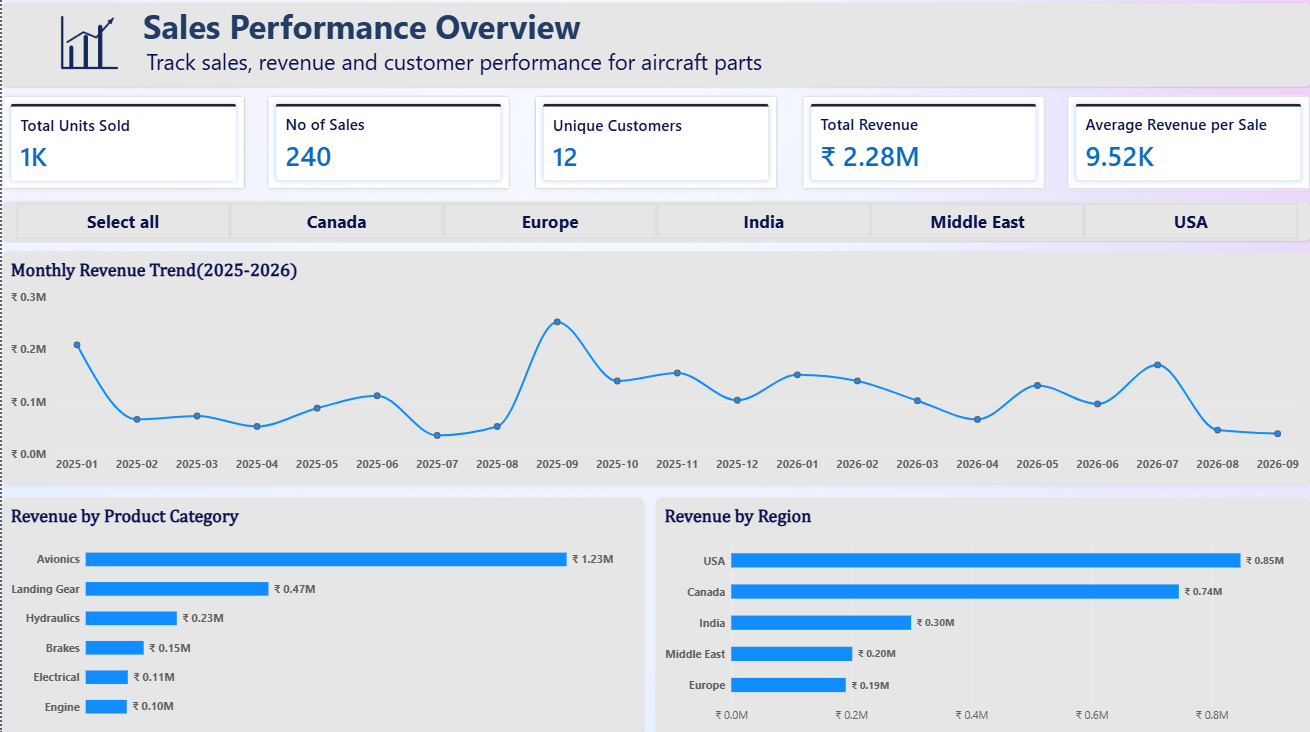

The page's visual inventory and layout, read from the dashboard file:
{"tool":"powerbi","page":{"name":"Executive Overview","canvas":[1920,1080],"ordinal":0},"visuals":[{"type":"cardVisual","fields":{"Data":["SalesTable.Total Revenue"]},"box":[1174.7,141.3,357,139.5],"z":0},{"type":"cardVisual","fields":{"Data":["SalesTable.Total Units Sold"]},"box":[0,141.3,357.6,139.5],"z":1000},{"type":"cardVisual","fields":{"Data":["SalesTable.No of sales"]},"box":[388,141.3,357,139],"z":2000},{"type":"cardVisual","fields":{"Data":["SalesTable.Unique Customers"]},"box":[781.4,141.3,357,139],"z":3000},{"type":"clusteredBarChart","title":"Revenue by Product Category","fields":{"Category":["ProductsTable.Category"],"Y":["SalesTable.Total Revenue"]},"box":[0,731.3,942,348.7],"z":4000},{"type":"slicer","title":"Filter by","fields":{"Values":["SalesTable.Region"]},"box":[0,296.8,1920.4,57.2],"z":5000},{"type":"lineChart","title":"Monthly Revenue Trend(2025-2026)","fields":{"Category":["DateTable.Year Month"],"Y":["SalesTable.Total Revenue"]},"box":[0,370.1,1920.4,341.5],"z":6000},{"type":"clusteredBarChart","title":"Revenue by Region","fields":{"Category":["SalesTable.Region"],"Y":["SalesTable.Total Revenue"]},"box":[960.2,731.3,960.2,348.7],"z":7000},{"type":"textbox","box":[0,5.4,1920.4,123.4],"z":8000},{"type":"cardVisual","fields":{"Data":["SalesTable.Average Revenue per Sale"]},"box":[1562.7,141.3,357,139.5],"z":9000},{"type":"image","box":[0,0,252.1,128.7],"z":9001}]}

Visuals, with their boxes in screenshot pixels (x1, y1, x2, y2), scaled from the page's 1920x1080 canvas onto the 1310x732 screenshot:
cardVisual - SalesTable.Total Revenue: BBox(801, 96, 1045, 190)
cardVisual - SalesTable.Total Units Sold: BBox(0, 96, 244, 190)
cardVisual - SalesTable.No of sales: BBox(265, 96, 508, 190)
cardVisual - SalesTable.Unique Customers: BBox(533, 96, 777, 190)
"Revenue by Product Category" clusteredBarChart: BBox(0, 496, 643, 731)
"Filter by" slicer: BBox(0, 201, 1309, 240)
"Monthly Revenue Trend(2025-2026)" lineChart: BBox(0, 251, 1309, 482)
"Revenue by Region" clusteredBarChart: BBox(655, 496, 1309, 731)
textbox: BBox(0, 4, 1309, 87)
cardVisual - SalesTable.Average Revenue per Sale: BBox(1066, 96, 1309, 190)
image: BBox(0, 0, 172, 87)
